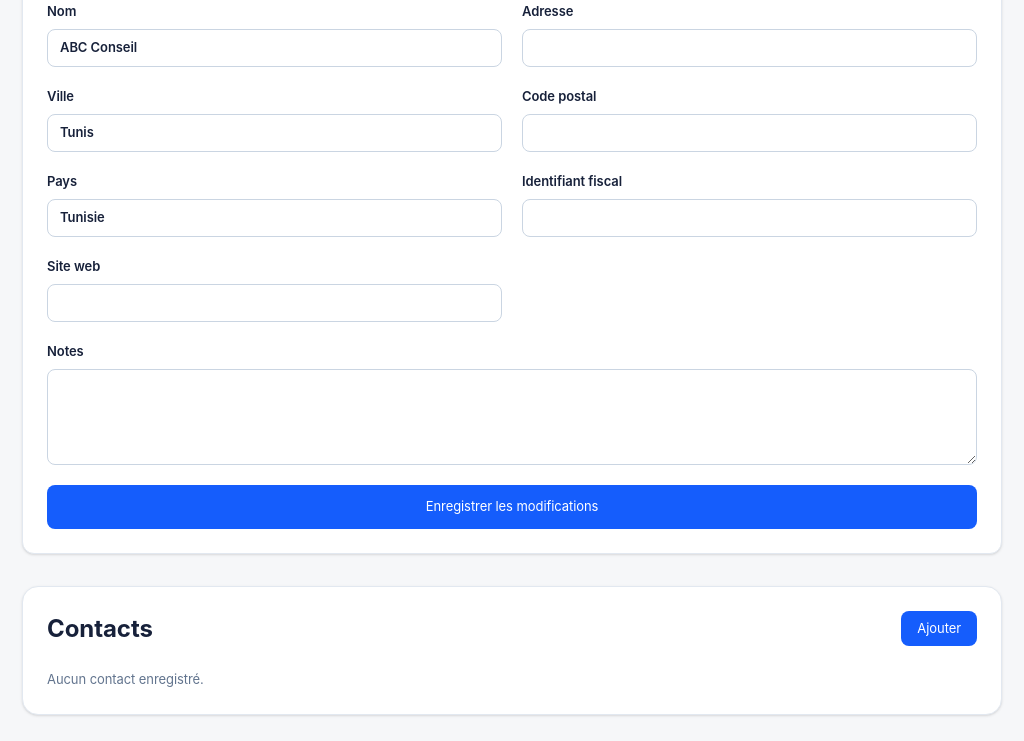
Test: Détail d’une entreprise › affiche le détail, ajoute un contact et permet de le définir principal
(page scrolled)
Click the button "Ajouter": (939, 629) [901,611,977,646]
(page scrolled)
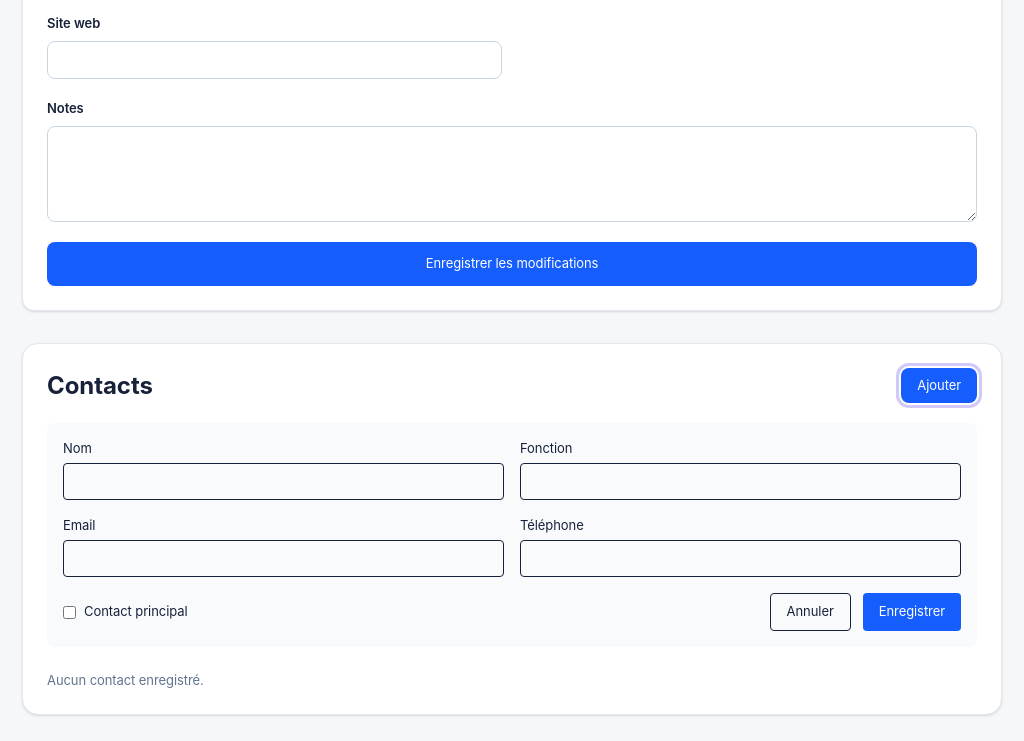
In the field labelled "Nom": (284, 482) [63,463,504,500], type "Nouveau Contact"
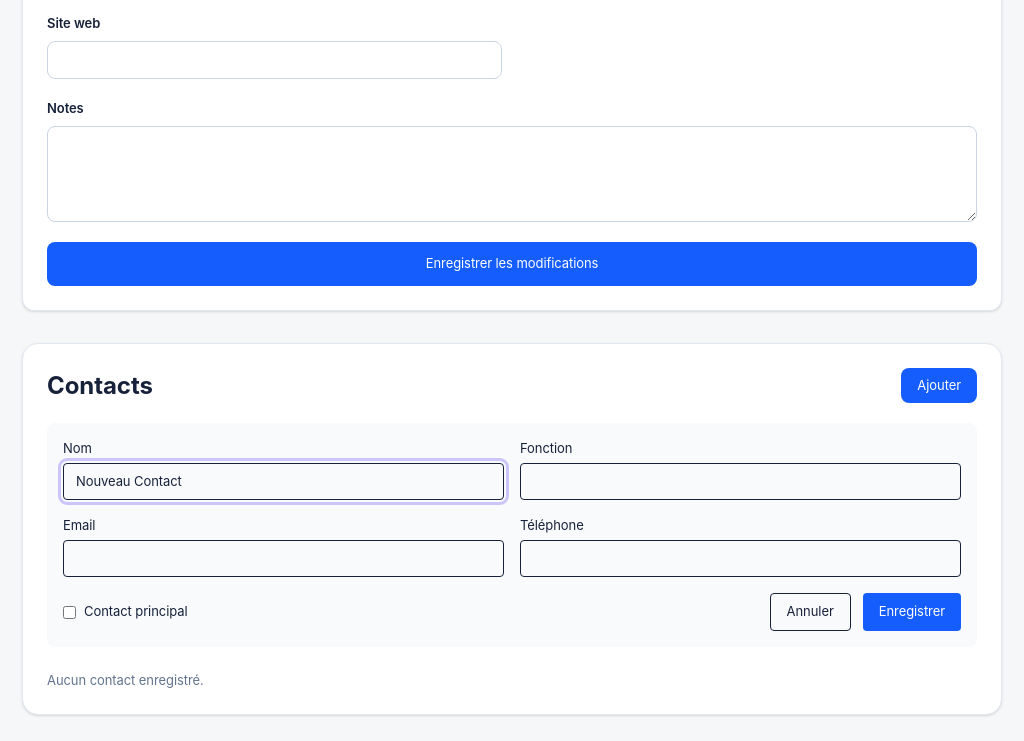
Click the button "Enregistrer": (912, 612) [863,593,961,631]
(page scrolled)
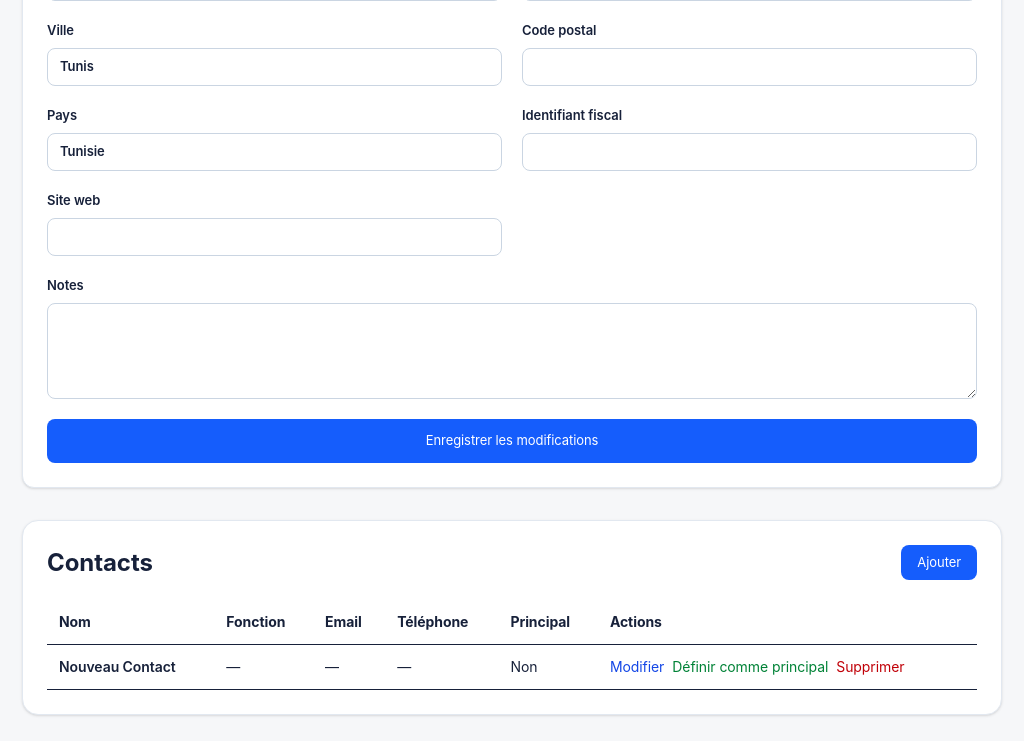
Expected: the text "Nouveau Contact" is shown, [47,645,214,690]
Expected: the button "Définir comme principal" is shown, [672,657,828,677]
